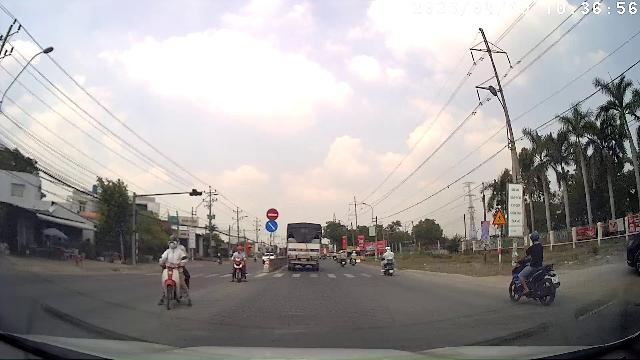102-cam-di-nguoc-chieu: (266, 208, 279, 220)
302a-huong-phai-di-vong-chuong-ngai-vat-1: (265, 220, 278, 232)
